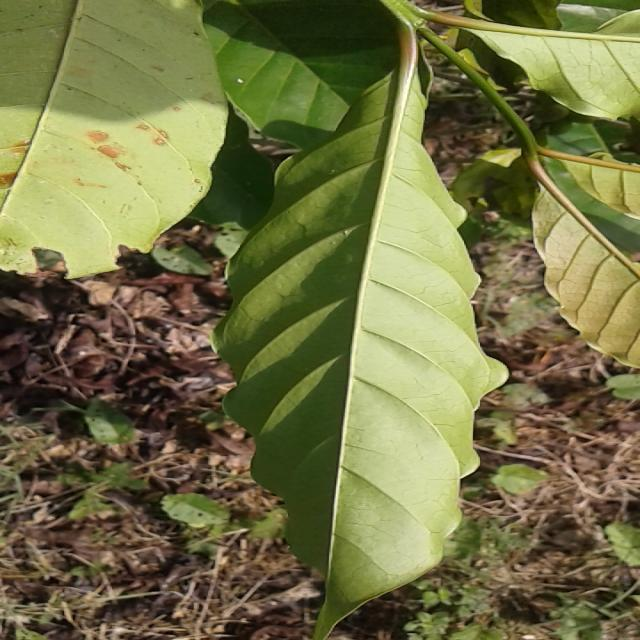Sanas: (215, 26, 509, 640)
